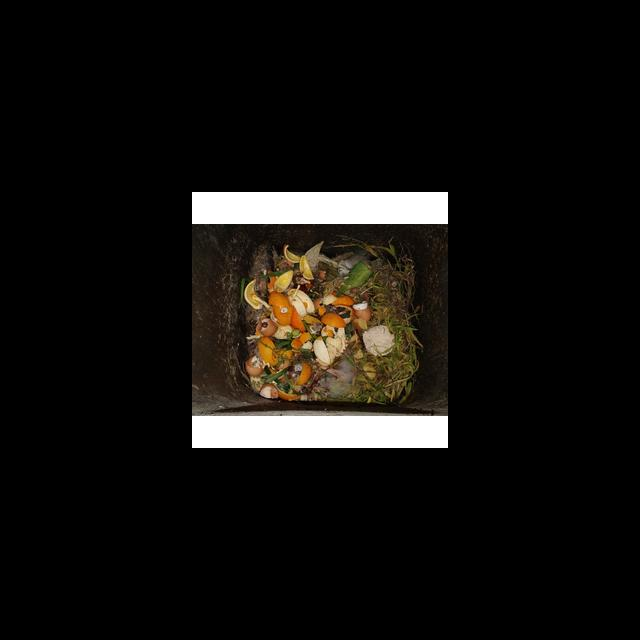food_waste: (276, 243, 319, 289), (285, 286, 330, 327), (347, 323, 392, 357), (299, 337, 344, 368), (269, 286, 302, 328), (343, 261, 376, 297), (236, 277, 264, 315), (353, 292, 382, 319)
